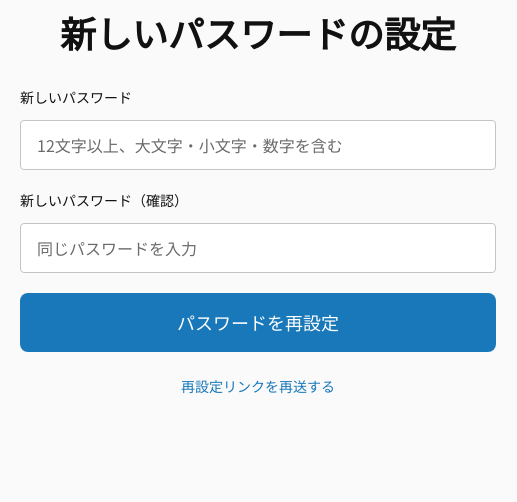
ResetPasswordForm › 新旧パスワード同一のエラーを表示する
The image size is (517, 502).
In the password field labelled "新しいパスワード": (258,145) [20, 120, 496, 170], type "NewPassword1"
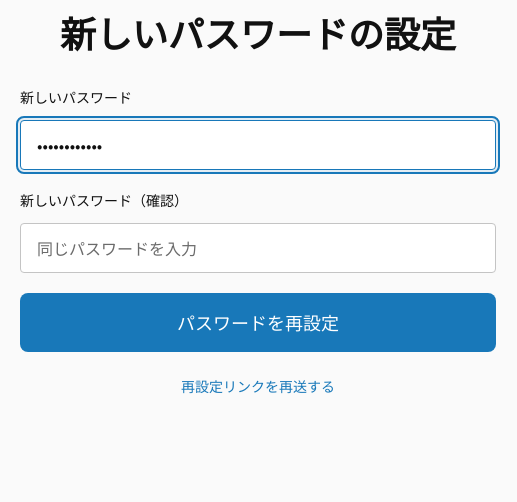
In the password field labelled "新しいパスワード（確認）": (258,248) [20, 223, 496, 273], type "NewPassword1"
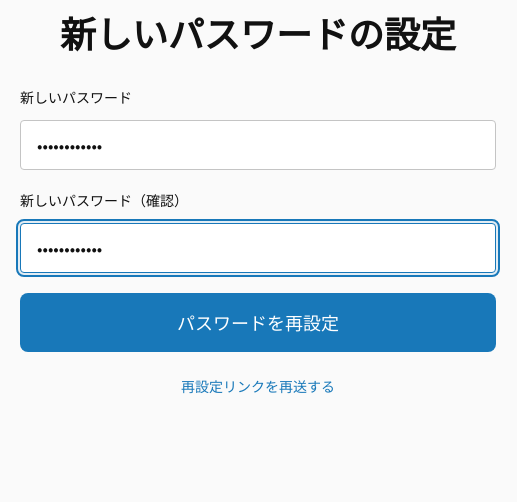
Click the button "パスワードを再設定": (258,322) [20, 293, 496, 352]
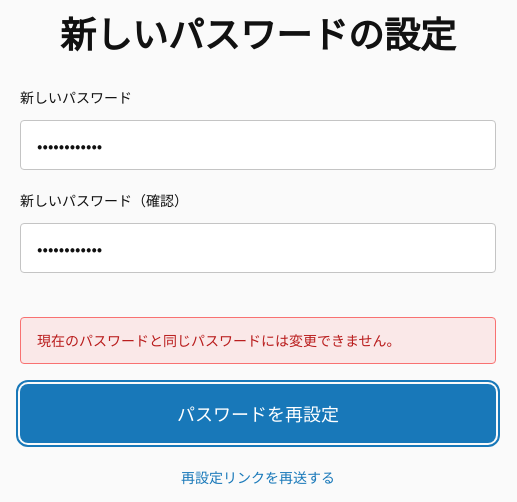
Now the message reads "現在のパスワードと同じパスワードには変更できません。", box [37, 330, 401, 350]
